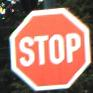Stop sign: (0, 0, 92, 92)
